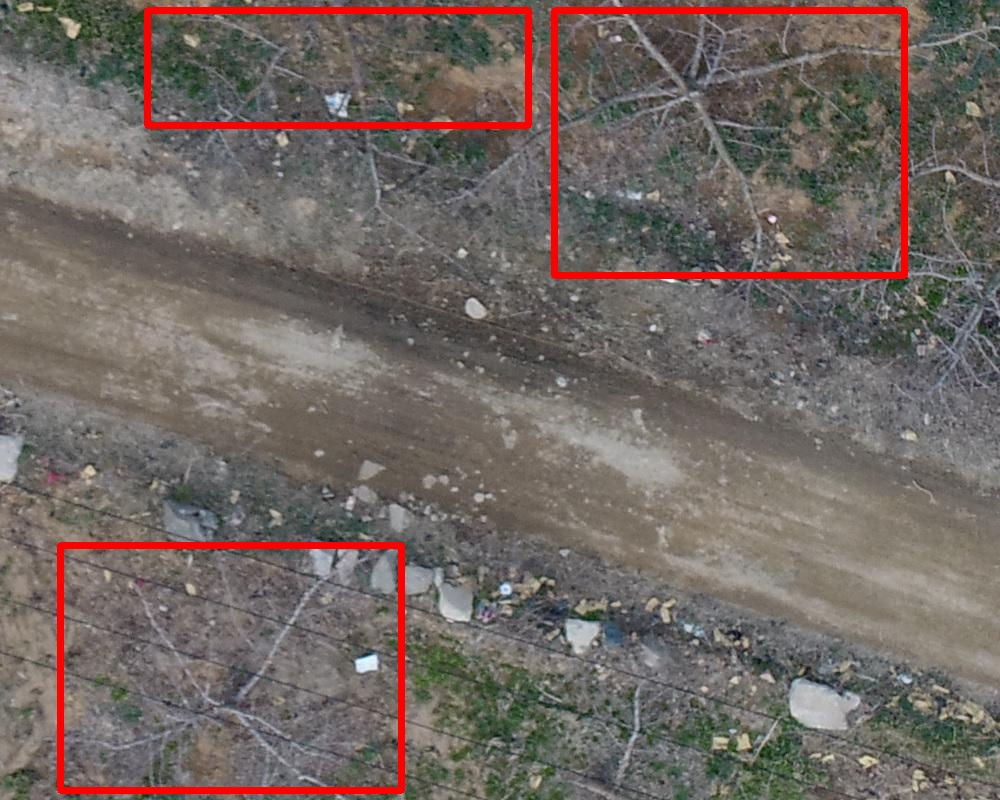apple: (554, 10, 904, 275), (60, 545, 401, 790), (147, 10, 528, 125)
